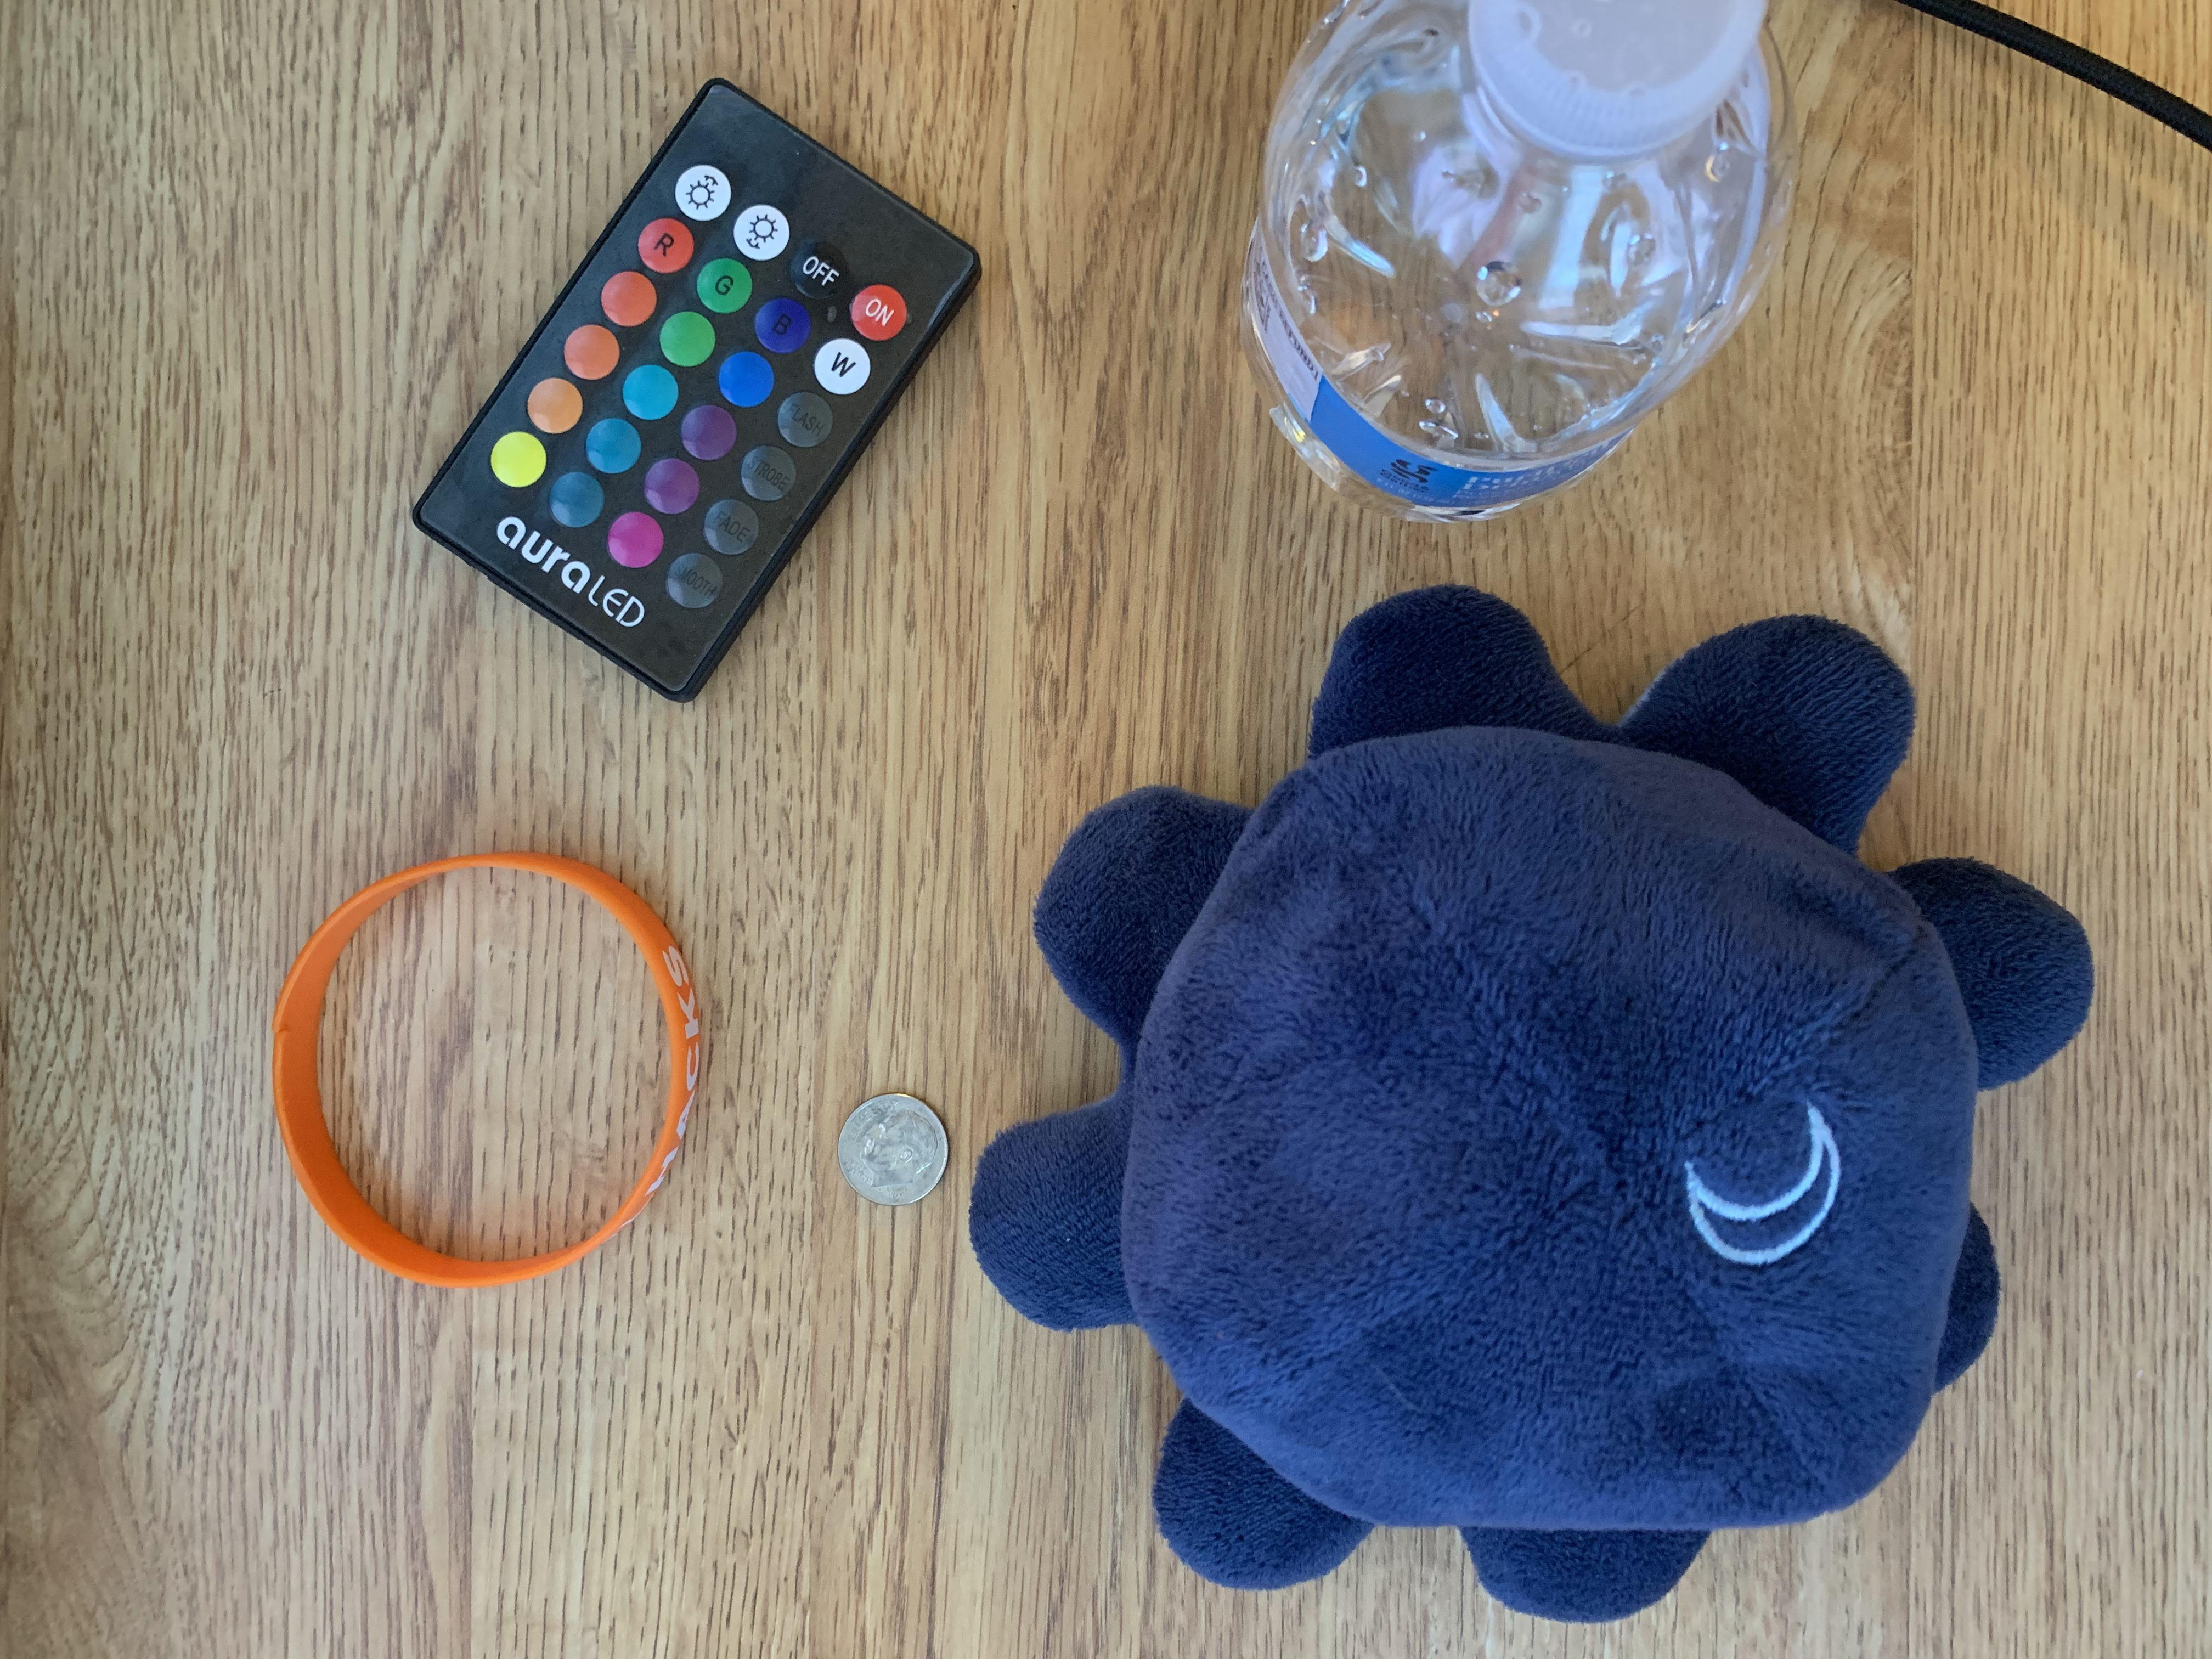Dime: (834, 1087, 956, 1211)
